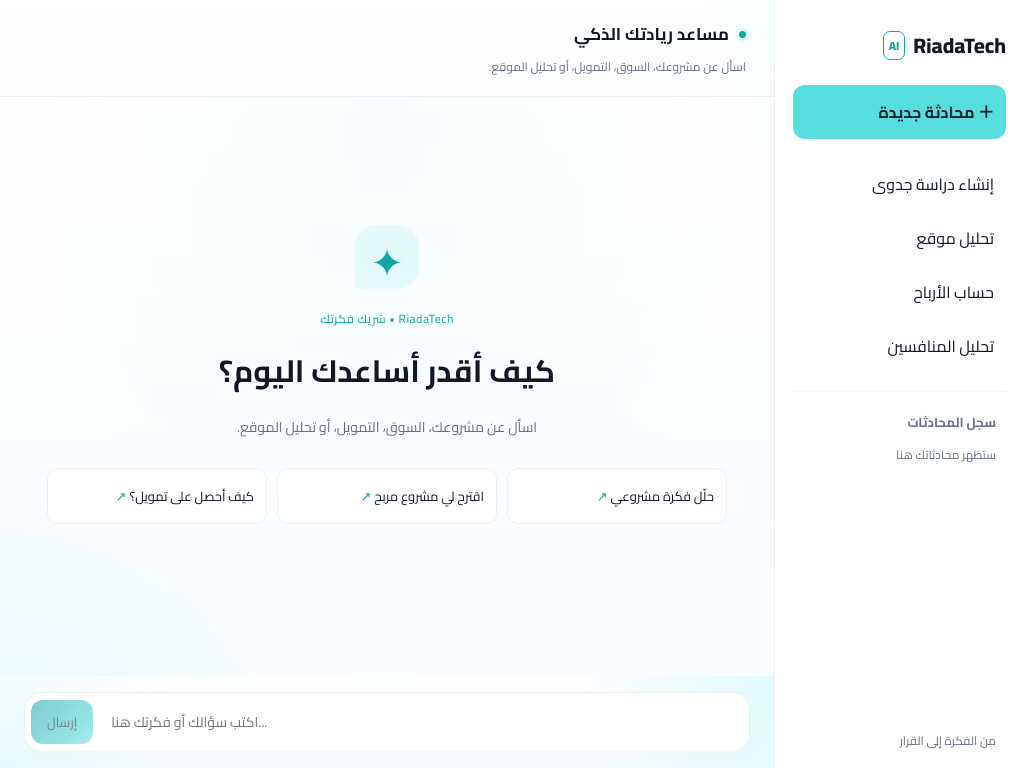
Scenario: Smart Assistant real component streaming › keeps existing HTTP error handling
Type "فكرة مشروع" into the field at (422, 722), box [101,699,743,745]
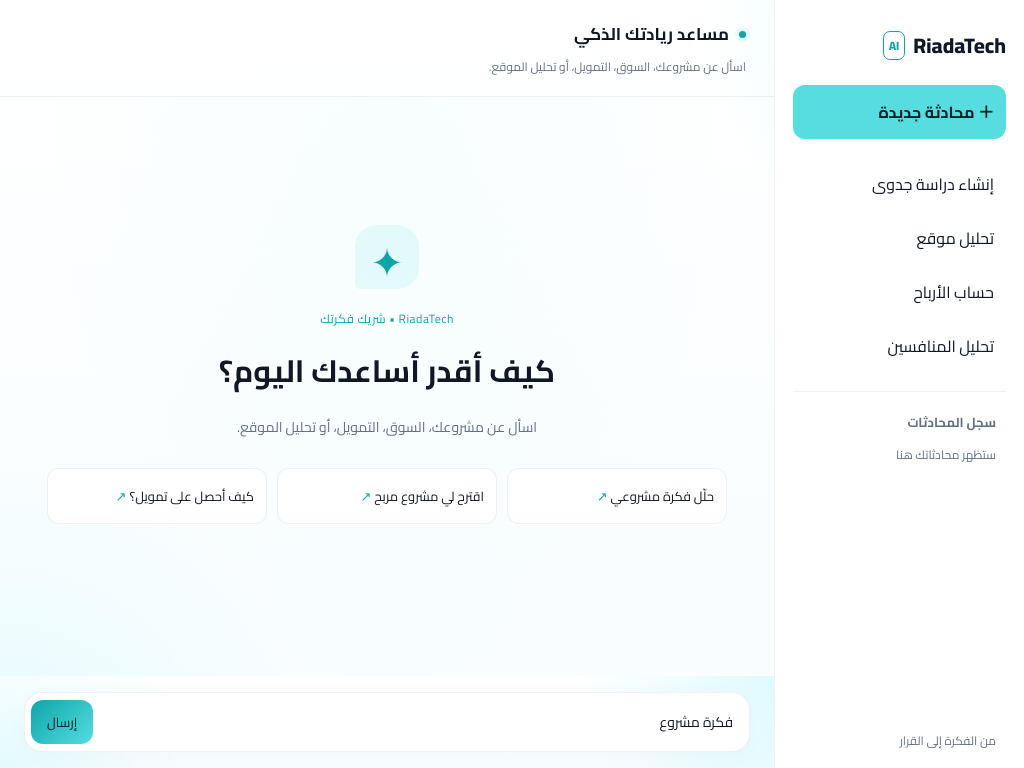
Click the button "إرسال" at (62, 722), box [31,700,93,744]
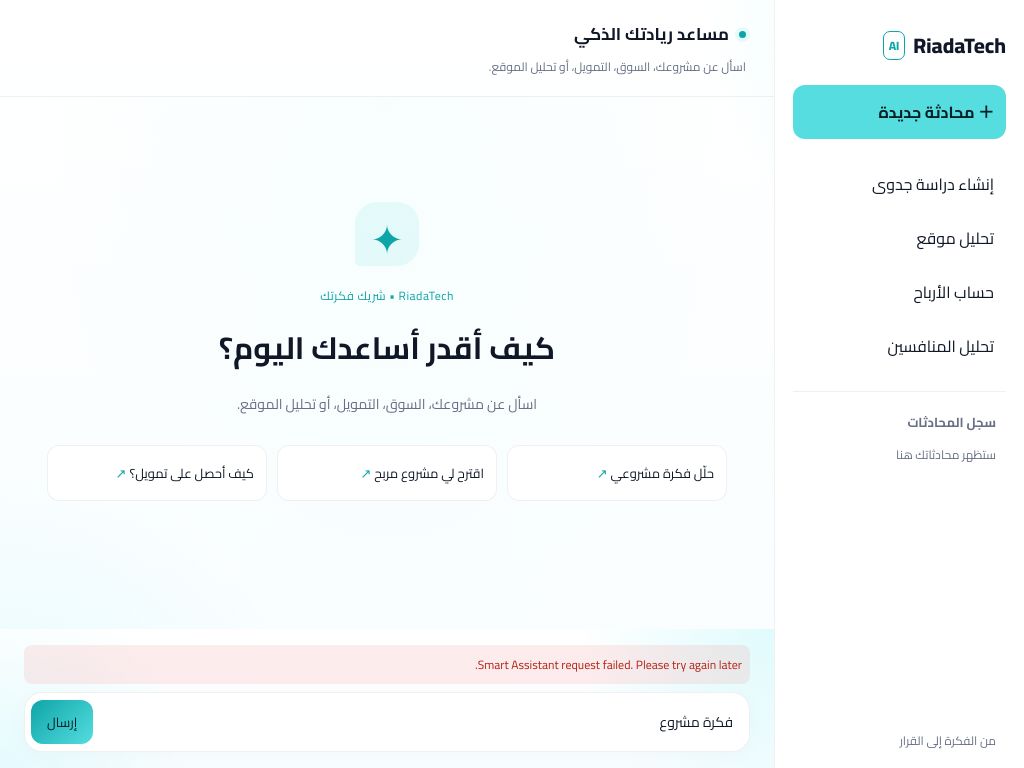
expect the text "Smart Assistant request failed. Please try again later." is shown: met, box [24,645,750,684]
